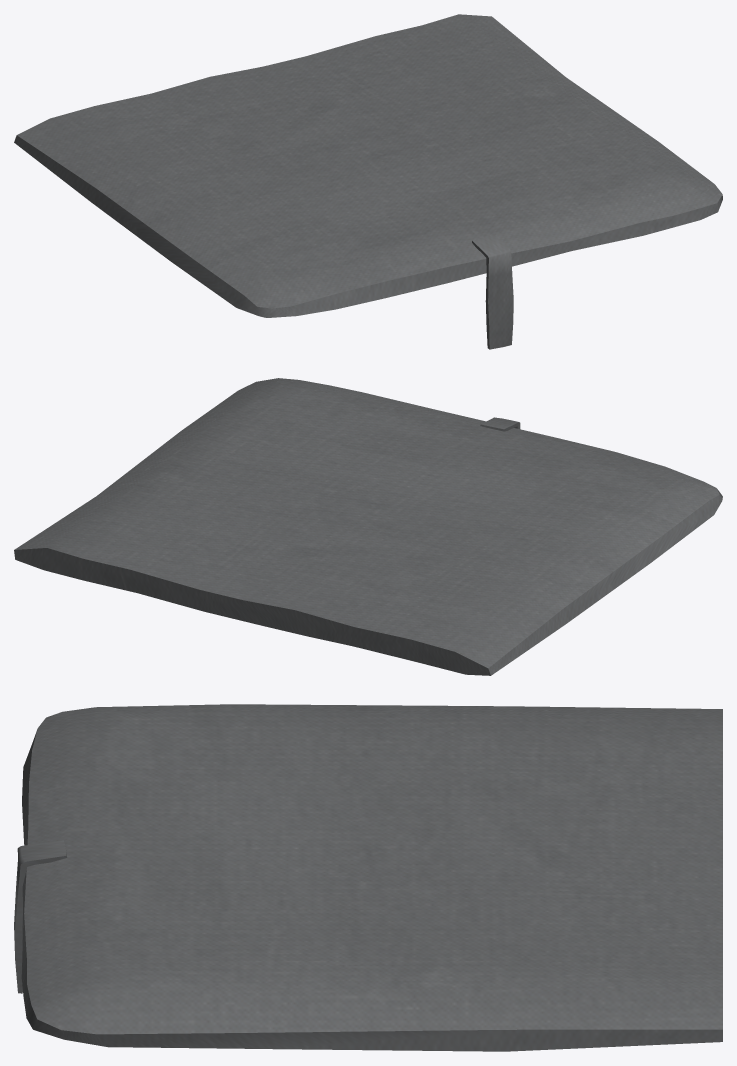
Rendered from SM_ClothBasket_A1_DoorA.fbx.
The picture shows the model from 3 angles, top to bottom: view 1: azimuth 30°, elevation 25°; view 2: azimuth 150°, elevation 25°; view 3: azimuth 270°, elevation 25°; orthographic projection. The views are drawn at different scales.
Parts seen in each view (by area): view 1: SM_ClothBasket_A1_DoorA; view 2: SM_ClothBasket_A1_DoorA; view 3: SM_ClothBasket_A1_DoorA.
Boxes of the visible parts, bbox=[...] form: SM_ClothBasket_A1_DoorA: bbox=[14, 14, 722, 349]; SM_ClothBasket_A1_DoorA: bbox=[14, 378, 722, 675]; SM_ClothBasket_A1_DoorA: bbox=[14, 704, 722, 1051].
Size of the model in its own units: 45.94 by 42.12 by 9.21.
Materials: 1 (1 with a texture image).
